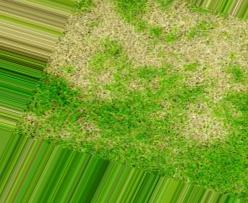patch: (169, 33, 220, 69), (101, 18, 147, 57), (61, 51, 93, 84)
